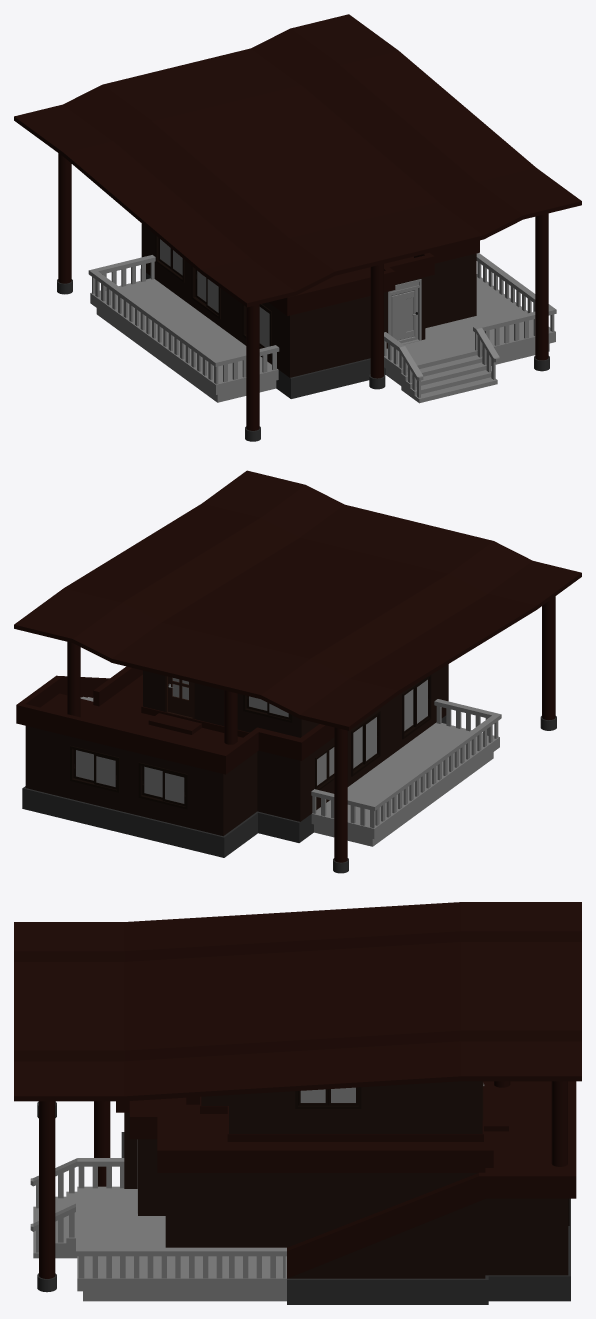
3 renders of one model, top to bottom at view 1: azimuth 30°, elevation 25°; view 2: azimuth 150°, elevation 25°; view 3: azimuth 270°, elevation 25°, orthographic. The views are drawn at different scales.
Parts seen in each view (by area): view 1: h-004_2F_roof, h-004_base, h-004_balcony_02, h-004_balcony_01, h-004_enterance_door, h-004_enterance_frame; view 2: h-004_2F_roof, h-004_base, h-004_balcony_02, h-004_2F_base, h-004_door_03_door_001, h-004_win_03_L_001, h-004_win_03_L_002, h-004_win_01_L_001, h-004_win_01_L_002, h-004_win_03_R_001, h-004_win_03_R_002, h-004_win_03_frame_001 (+1 smaller); view 3: h-004_2F_roof, h-004_base, h-004_balcony_01, h-004_2F_base, h-004_win_04_L_003.
Part boxes in pixels (<box>): h-004_2F_roof: <box>14,14,581,441</box>; h-004_base: <box>140,223,479,398</box>; h-004_balcony_02: <box>88,255,279,402</box>; h-004_balcony_01: <box>384,253,556,403</box>; h-004_enterance_door: <box>390,288,417,343</box>; h-004_enterance_frame: <box>388,279,421,347</box>; h-004_2F_roof: <box>14,470,581,873</box>; h-004_base: <box>16,664,448,857</box>; h-004_balcony_02: <box>311,699,501,846</box>; h-004_2F_base: <box>141,670,319,737</box>; h-004_door_03_door_001: <box>168,676,192,717</box>; h-004_win_03_L_001: <box>162,771,185,806</box>; h-004_win_03_L_002: <box>94,754,116,789</box>; h-004_win_01_L_001: <box>414,677,429,727</box>; h-004_win_01_L_002: <box>363,715,378,764</box>; h-004_win_03_R_001: <box>142,766,162,799</box>; h-004_win_03_R_002: <box>73,749,93,782</box>; h-004_win_03_frame_001: <box>138,762,187,809</box>; h-004_2F_roof: <box>14,902,581,1292</box>; h-004_base: <box>116,1081,576,1304</box>; h-004_balcony_01: <box>30,1158,286,1301</box>; h-004_2F_base: <box>186,1081,508,1141</box>; h-004_win_04_L_003: <box>328,1087,358,1105</box>.
Bounding box in the file's own units: 172 × 91 × 206.
